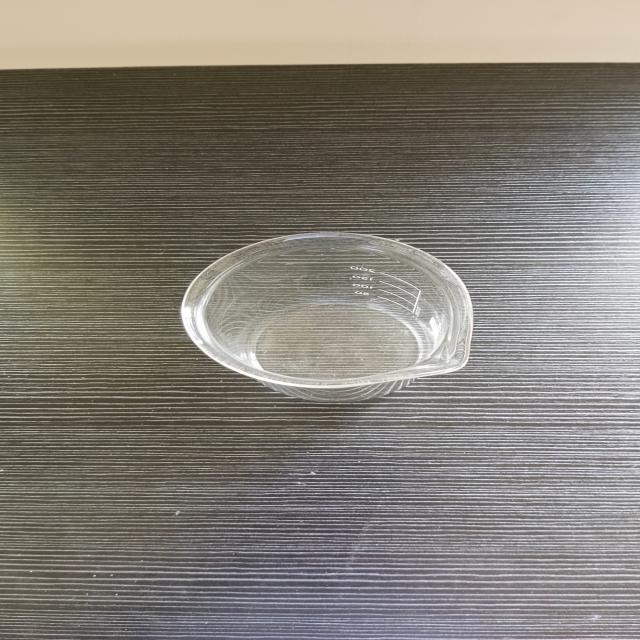beaker: (172, 225, 480, 413)
